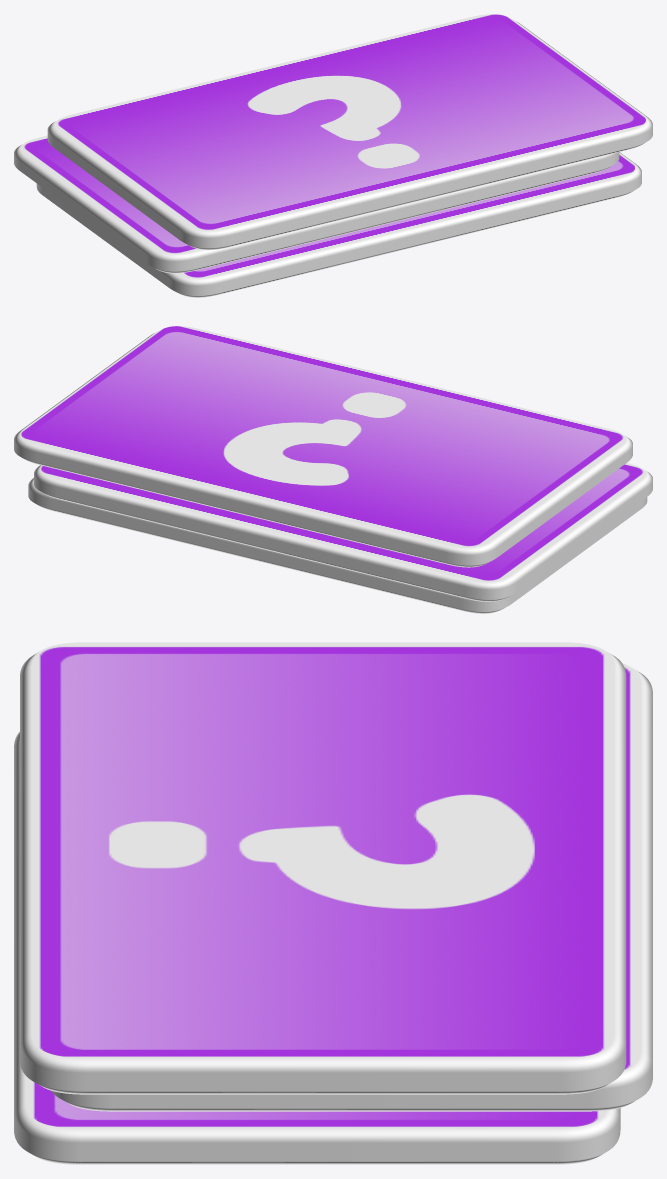
The model's file is ChanceCardGrop.fbx.
3 renders of one model, top to bottom at view 1: azimuth 30°, elevation 25°; view 2: azimuth 150°, elevation 25°; view 3: azimuth 270°, elevation 25°, orthographic. The views are drawn at different scales.
Parts seen in each view (by area): view 1: ChanceCard.002; view 2: ChanceCard.002; view 3: ChanceCard.002.
Part boxes in pixels (x1,y1,x2,y2): ChanceCard.002: (14, 14, 652, 297); ChanceCard.002: (14, 326, 652, 613); ChanceCard.002: (14, 642, 652, 1164).
Bounding box in the file's own units: 5.28 × 0.645 × 3.16.
Materials: 1 (1 with a texture image).
